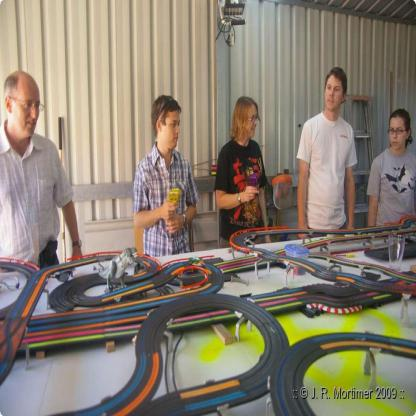face: (14, 81, 41, 135), (164, 112, 181, 148), (327, 77, 344, 110), (390, 119, 408, 150), (247, 109, 259, 138)
